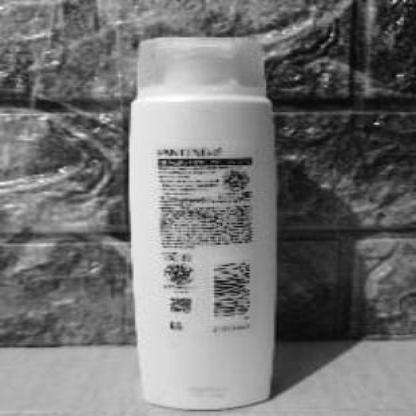objects: (122, 22, 279, 409)
